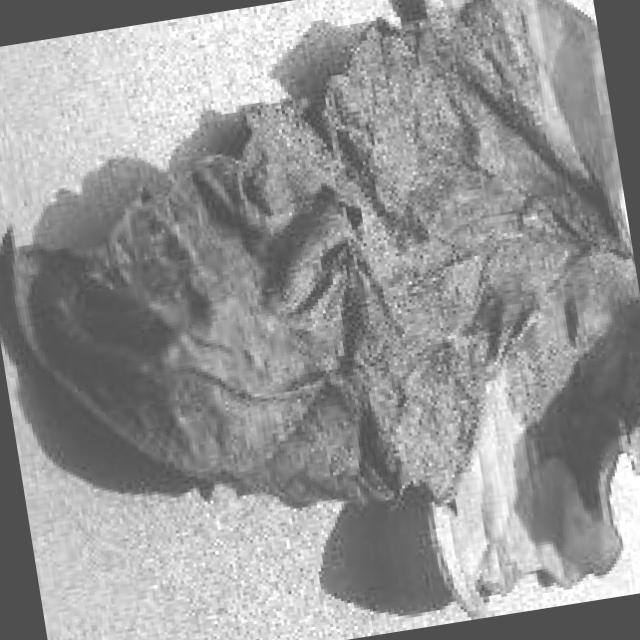leaf blight: (0, 0, 640, 619)
